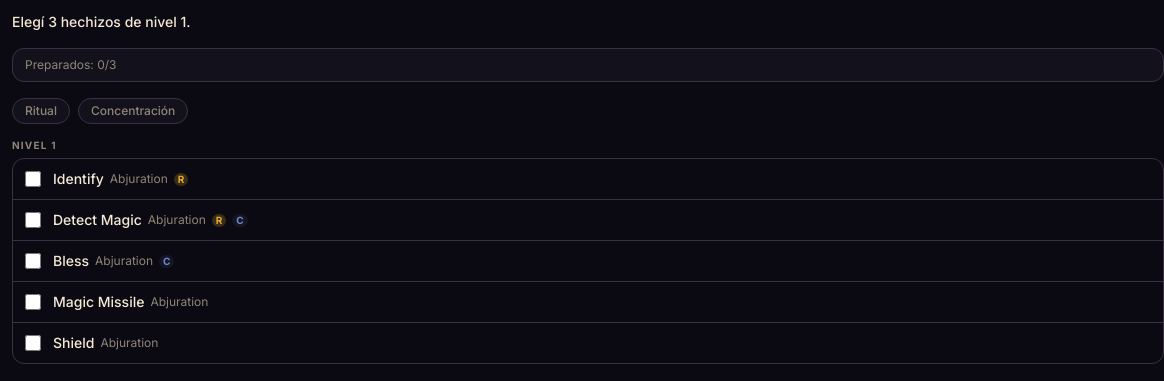
SpellsPicker — filter chips (REQ-SP03-FILTER-RITUAL, SP03-S1) › A-RED-1: Ritual chip narrows visible spell rows to ritual=true only
Expected: the text "Identify" is shown, [53,169,104,189]
Expected: the text "Magic Missile" is shown, [53,292,144,312]
Toggle Ritual chip ON
Step 1. Click the button "Ritual" → (41, 111), box [12,98,70,124]
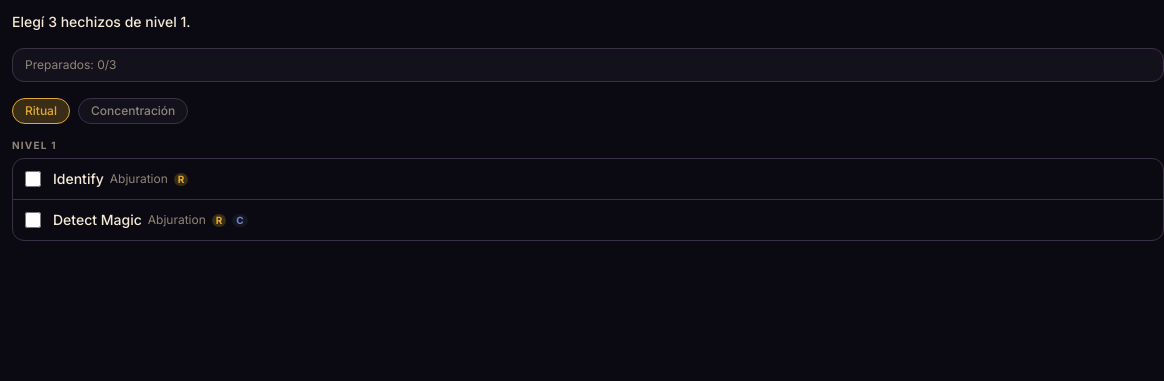
Expected: the text "Magic Missile" is gone
Expected: the text "Bless" is gone
Expected: the text "Shield" is gone
